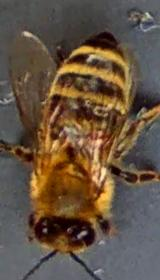varroa_mite: (81, 125, 111, 154)
